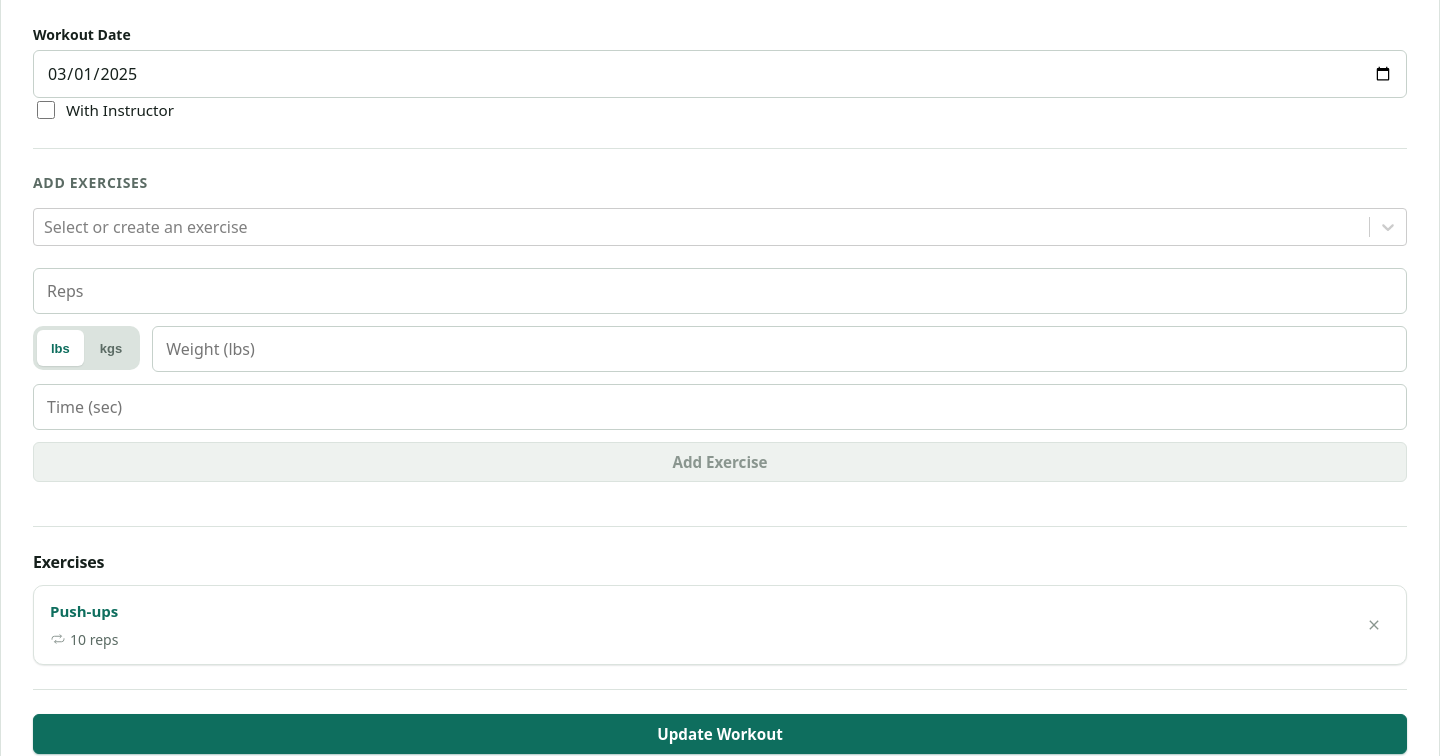
Test: WorkoutForm › displays error message when form submission fails
(page scrolled)
Note: Submit the form
Click the button "Update Workout": point(720, 734) x1=33 y1=714 x2=1407 y2=754
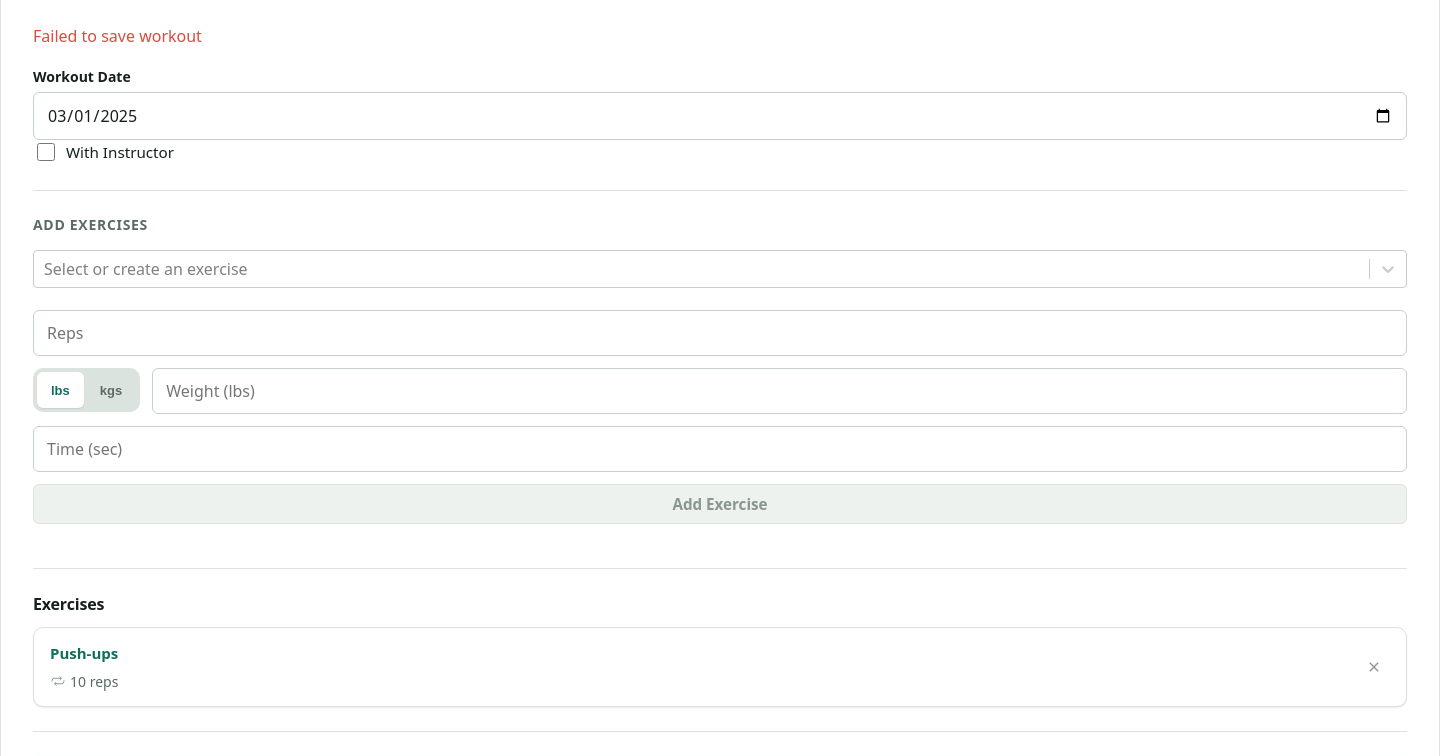
Expected: the text "Failed to save workout" is shown, x1=33 y1=25 x2=202 y2=47
